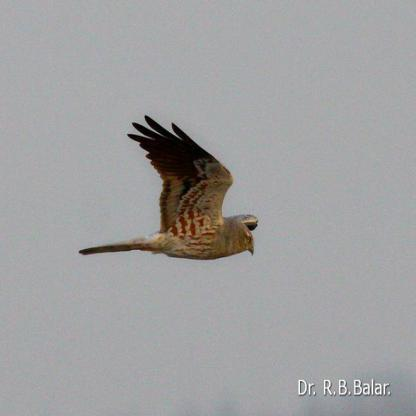Burung: (74, 112, 261, 262)
